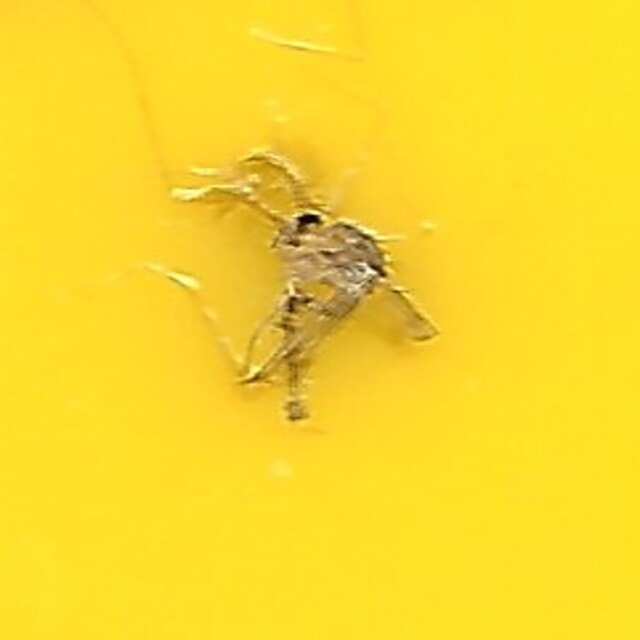Nematocera: (266, 211, 374, 429)
